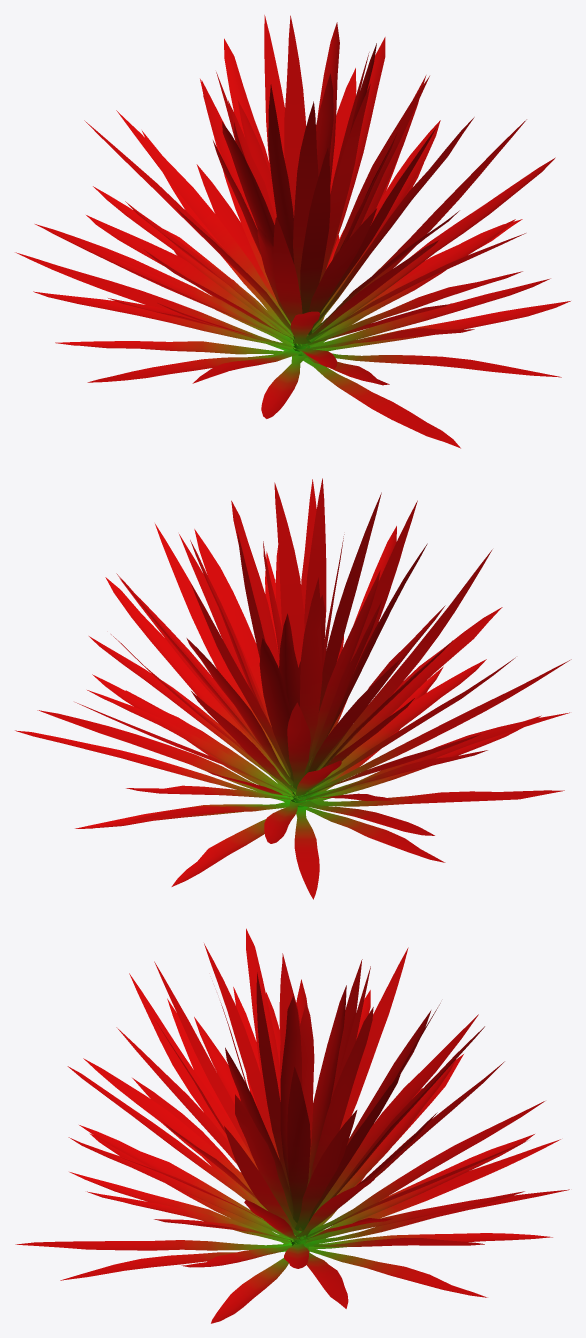
The model's file is SM_Bush01_LOD1.fbx.
The picture shows the model from 3 angles, top to bottom: view 1: azimuth 30°, elevation 25°; view 2: azimuth 150°, elevation 25°; view 3: azimuth 270°, elevation 25°; orthographic projection. The views are drawn at different scales.
Visible parts, largest first — view 1: _otuf_Var10_LOD3; view 2: _otuf_Var10_LOD3; view 3: _otuf_Var10_LOD3.
Part boxes in pixels (x1,y1,x2,y2): _otuf_Var10_LOD3: (15, 15, 570, 448); _otuf_Var10_LOD3: (15, 478, 571, 899); _otuf_Var10_LOD3: (15, 928, 569, 1323).
Bounding box in the file's own units: 90.47 × 54.66 × 91.86.
